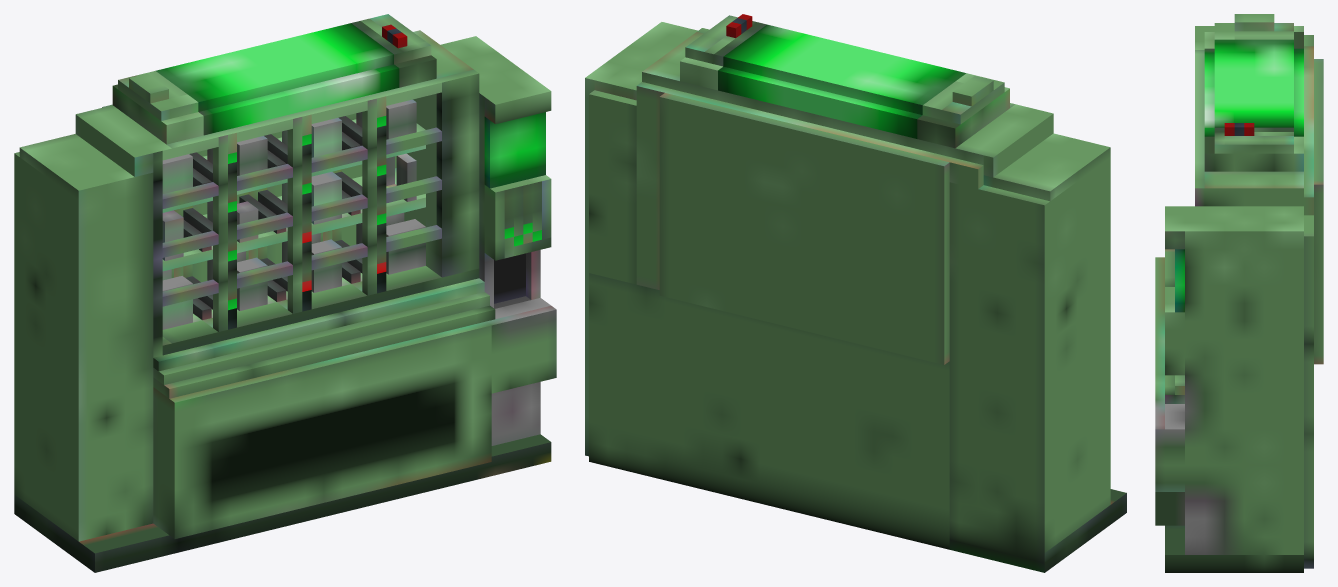
File: Machine_Dispenser_C_00.fbx
3 views of the same model, side by side, from view 1: azimuth 30°, elevation 25°; view 2: azimuth 150°, elevation 25°; view 3: azimuth 270°, elevation 25° (orthographic). The views are drawn at different scales.
Parts seen in each view (by area): view 1: Machine_Dispenser_C_00; view 2: Machine_Dispenser_C_00; view 3: Machine_Dispenser_C_00.
Part boxes in pixels (x1,y1,x2,y2): Machine_Dispenser_C_00: (14, 14, 556, 572); Machine_Dispenser_C_00: (585, 14, 1126, 572); Machine_Dispenser_C_00: (1155, 14, 1323, 572).
Bounding box in the file's own units: 245 × 220 × 85.
